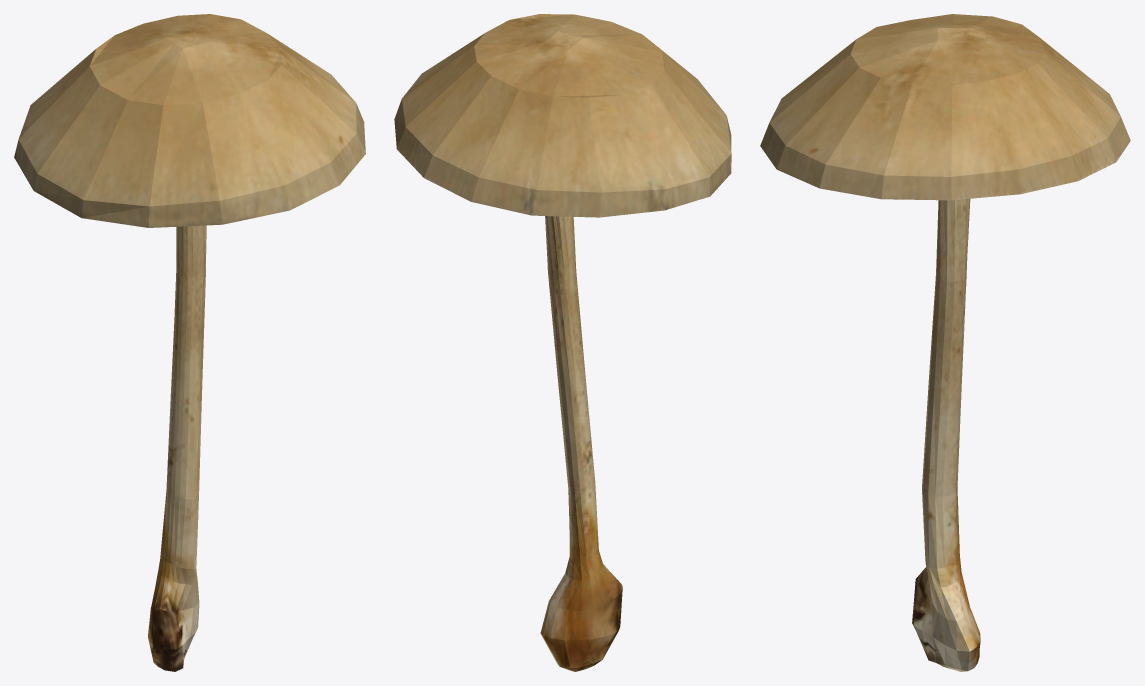
The model's file is P_Xinbaogu_02.obj.
The picture shows the model from 3 angles, left to right: view 1: azimuth 30°, elevation 25°; view 2: azimuth 150°, elevation 25°; view 3: azimuth 270°, elevation 25°; orthographic projection. The views are drawn at different scales.
Bounding box in the file's own units: 0.3756 × 0.7481 × 0.3907.
Materials: 1 (1 with a texture image).
